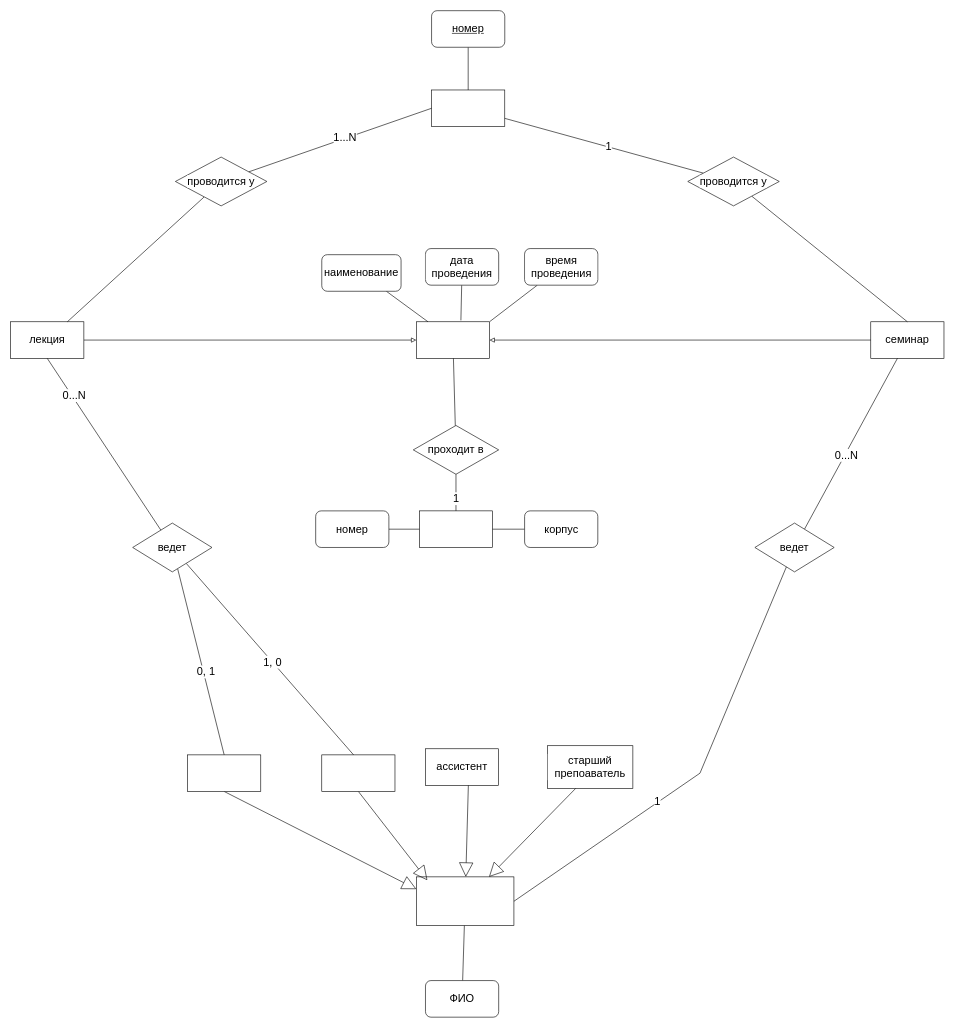
This 955x1028 diagram has some shape labels left out. Here are the shapes that lost their labels. From the top down, the centre of each, then its label:
(468,108): группа
(453,339): занятие
(456,528): аудитория
(224,772): доцент
(358,772): профессор
(465,901): преподаватель
